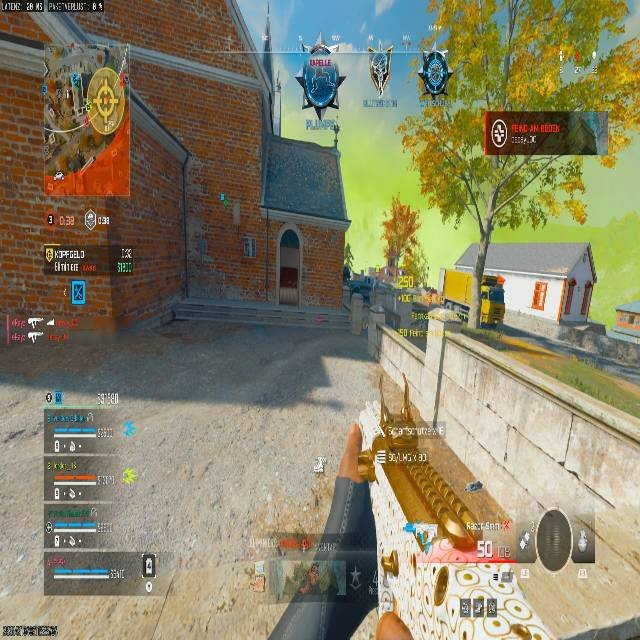player: (297, 41, 344, 125)
